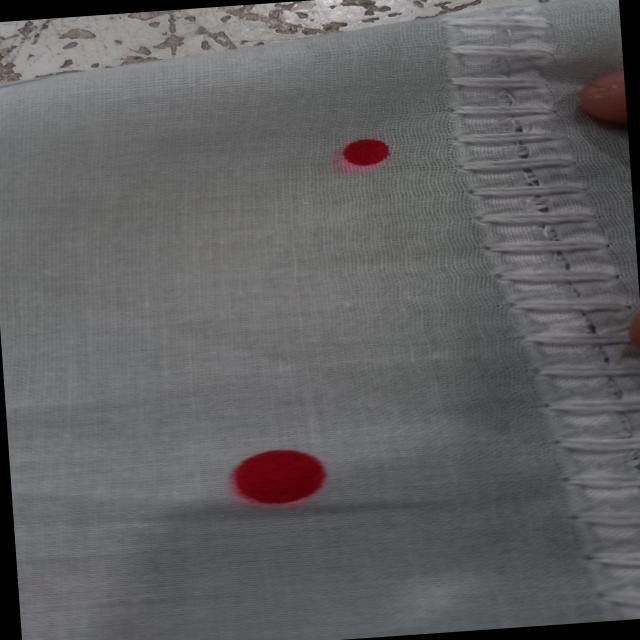gray stitch: (426, 0, 640, 624)
